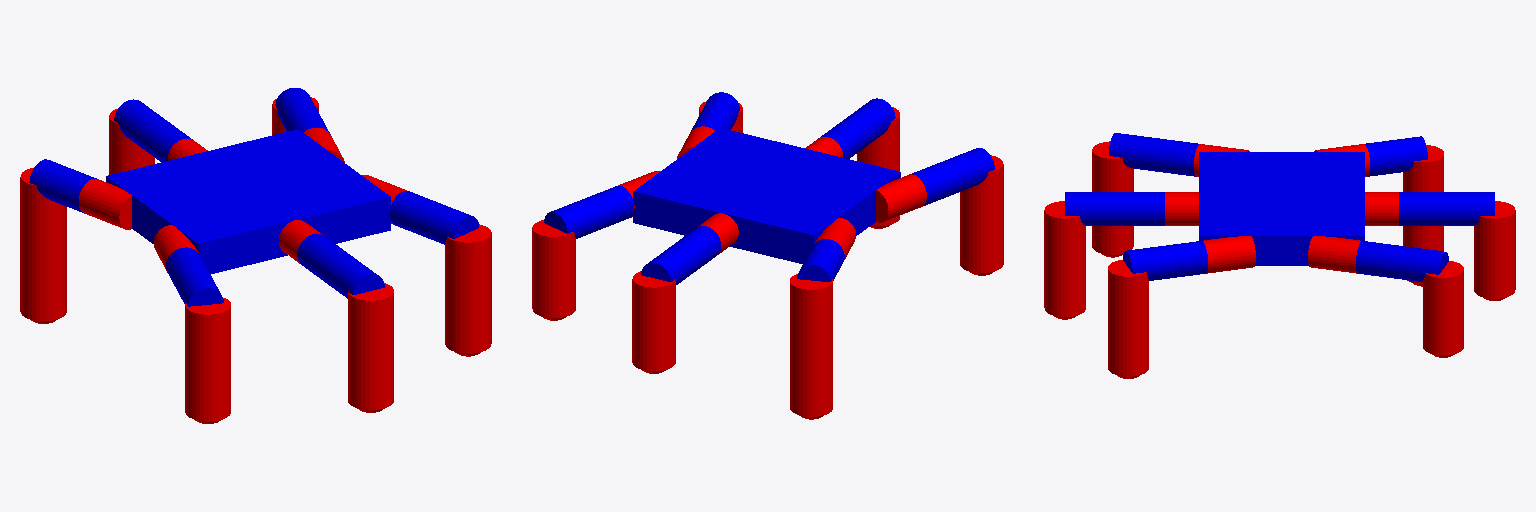
--- What the picture shows (computed from the rendered views, not written in the file) ---
The picture shows the robot from 3 angles, left to right: view 1: azimuth 30°, elevation 25°; view 2: azimuth 150°, elevation 25°; view 3: azimuth 270°, elevation 25°; orthographic projection.
Robot: pexod — 19 links, 18 joints (18 revolute); root link base_link; default pose: all joints at 0.
Visible links, largest first — view 1: base_link, leg_0_3, leg_3_3, leg_4_3, leg_5_3, leg_4_2, leg_3_2, leg_1_2, leg_5_2, leg_0_1, leg_0_2, leg_2_2 (+3 smaller); view 2: base_link, leg_0_3, leg_5_3, leg_1_3, leg_2_3, leg_2_2, leg_1_2, leg_5_2, leg_4_2, leg_5_1, leg_4_3, leg_0_2 (+3 smaller); view 3: base_link, leg_4_3, leg_3_3, leg_1_3, leg_2_3, leg_4_2, leg_1_2, leg_2_2, leg_5_3, leg_5_2, leg_3_2, leg_0_3 (+5 smaller).
Boxes of the visible links, x1,y1,x2,y2 form: base_link: (106,129,390,273); leg_0_3: (20,168,66,323); leg_3_3: (445,224,491,356); leg_4_3: (348,283,393,412); leg_5_3: (185,298,230,423); leg_4_2: (297,233,384,298); leg_3_2: (390,191,478,244); leg_1_2: (114,99,192,161); leg_5_2: (166,247,223,306); leg_0_1: (79,179,131,229); leg_0_2: (29,159,96,212); leg_2_2: (275,88,330,134); base_link: (633,128,900,263); leg_0_3: (790,274,832,419); leg_5_3: (960,155,1003,275); leg_1_3: (632,271,675,373); leg_2_3: (532,220,575,320); leg_2_2: (544,186,633,238); leg_1_2: (641,226,720,284); leg_5_2: (909,148,994,205); leg_4_2: (818,98,895,158); leg_5_1: (876,174,926,222); leg_4_3: (857,107,899,228); leg_0_2: (797,239,844,281); base_link: (1199,152,1364,265); leg_4_3: (1044,201,1085,319); leg_3_3: (1108,260,1148,378); leg_1_3: (1474,201,1515,300); leg_2_3: (1423,261,1463,357); leg_4_2: (1065,192,1164,225); leg_1_2: (1399,192,1494,225); leg_2_2: (1356,241,1448,281); leg_5_3: (1092,141,1133,257); leg_5_2: (1109,133,1198,176); leg_3_2: (1123,241,1207,280); leg_0_3: (1403,145,1443,286).
Bounding box of the posed robot: 0.3878 × 0.5656 × 0.1937 m (x, y, z).
Geometry: primitives only (box / cylinder / sphere), no mesh files.

The robot description file, URDF, robot "pexod":
<?xml version="1.0" ?>
<!-- =================================================================================== -->
<!-- |    This document was autogenerated by xacro from pexod.xacro                    | -->
<!-- |    EDITING THIS FILE BY HAND IS NOT RECOMMENDED                                 | -->
<!-- =================================================================================== -->
<robot name="pexod" xmlns:xacro="http://www.ros.org/wiki/xacro">
  <!-- <xacro:include filename="$(find pexod_description)/urdf/pexod_control.xacro" /> -->
  <!-- MATERIALS -->
  <material name="Blue">
    <color rgba="0 0 1 1"/>
  </material>
  <material name="Red">
    <color rgba="1 0 0 1"/>
  </material>
  <material name="Green">
    <color rgba="0 1 0 1"/>
  </material>
  <material name="Yellow">
    <color rgba="1 1 0 1"/>
  </material>
  <material name="LightGrey">
    <color rgba="0.6 0.6 0.6 1.0"/>
  </material>
  <!-- END OF MATERIALS -->
  <!-- XACRO MACROS FOR VISUALS AND COLLISIONS -->
  <!-- END OF XACRO MACROS -->
  <!-- TORSO -->
  <link name="base_link">
    <visual>
      <origin rpy="0 0 0" xyz="0 0 0"/>
      <geometry>
        <box size="0.24 0.2 0.04"/>
      </geometry>
      <material name="Blue"/>
    </visual>
    <collision>
      <origin rpy="0 0 0" xyz="0 0 0"/>
      <geometry>
        <box size="0.24 0.2 0.04"/>
      </geometry>
    </collision>
    <inertial>
      <!-- CENTER OF MASS -->
      <origin rpy="0 0 0" xyz="0 0 0"/>
      <mass value="1.031"/>
      <!-- box inertia: 1/12*m(y^2+z^2), ... -->
      <inertia ixx="0.00357413333333" ixy="0" ixz="0" iyy="0.00508626666667" iyz="0" izz="0.00838546666667"/>
    </inertial>
  </link>
  <!-- XACRO MACRO FOR LEGS LINKS/JOINTS -->
  <!-- END OF LEG LINKS/JOINTS -->
  <joint name="body_leg_2" type="revolute">
    <parent link="base_link"/>
    <child link="leg_2_1"/>
    <limit effort="30.0" lower="-1.57079632679" upper="1.57079632679" velocity="7.0"/>
    <origin rpy="0 0 -0.3" xyz="0.11 0.04 0"/>
    <!-- <xacro:if value="${index == 5 or index == 4 or index == 3}">
                <axis xyz="0 0 1"/>
            </xacro:if>
            <xacro:if value="${index == 2 or index == 1 or index == 0}"> -->
    <axis xyz="0 0 1"/>
    <!-- </xacro:if> -->
    <dynamics damping="0.0"/>
  </joint>
  <link name="leg_2_1">
    <visual>
      <origin rpy="1.57079632679 0 0" xyz="0.01 0.03 0"/>
      <geometry>
        <cylinder length="0.06" radius="0.02"/>
      </geometry>
      <material name="Red"/>
    </visual>
    <collision>
      <origin rpy="1.57079632679 0 0" xyz="0.01 0.03 0"/>
      <geometry>
        <box size="0.02 0.02 0.06"/>
      </geometry>
    </collision>
    <inertial>
      <!-- CENTER OF MASS -->
      <origin rpy="1.57079632679 0 0" xyz="0.01 0.03 0"/>
      <mass value="0.02"/>
      <!-- box inertia: 1/12*m(y^2+z^2), ... -->
      <inertia ixx="6.66666666667e-06" ixy="0" ixz="0" iyy="6.66666666667e-06" iyz="0" izz="1.33333333333e-06"/>
    </inertial>
  </link>
  <joint name="leg_2_1_2" type="revolute">
    <parent link="leg_2_1"/>
    <child link="leg_2_2"/>
    <limit effort="30.0" lower="-0.78539816339" upper="0.78539816339" velocity="7.0"/>
    <origin rpy="0 0 0" xyz="0 0.06 0"/>
    <axis xyz="1 0 0"/>
    <dynamics damping="0.0"/>
  </joint>
  <link name="leg_2_2">
    <visual>
      <origin rpy="1.57079632679 0 0" xyz="0.01 0.05240941406 0"/>
      <geometry>
        <cylinder length="0.10481882812" radius="0.02"/>
      </geometry>
      <material name="Blue"/>
    </visual>
    <collision>
      <origin rpy="1.57079632679 0 0" xyz="0.01 0.05240941406 0"/>
      <geometry>
        <box size="0.02 0.02 0.10481882812"/>
      </geometry>
    </collision>
    <inertial>
      <!-- CENTER OF MASS -->
      <origin rpy="1.57079632679 0 0" xyz="0.01 0.05240941406 0"/>
      <mass value="0.184"/>
      <!-- box inertia: 1/12*m(y^2+z^2), ... -->
      <inertia ixx="0.00017460046317" ixy="0" ixz="0" iyy="0.00017460046317" iyz="0" izz="1.22666666667e-05"/>
    </inertial>
  </link>
  <joint name="leg_2_2_3" type="revolute">
    <parent link="leg_2_2"/>
    <child link="leg_2_3"/>
    <limit effort="30.0" lower="-0.78539816339" upper="0.78539816339" velocity="7.0"/>
    <origin rpy="-1.57079632679 0 0" xyz="0 0.10481882812 0"/>
    <axis xyz="-1 0 0"/>
    <dynamics damping="0.0"/>
  </joint>
  <link name="leg_2_3">
    <visual>
      <origin rpy="1.57079632679 0 0" xyz="0.0125 0.0514556264495 0"/>
      <geometry>
        <cylinder length="0.102911252899" radius="0.025"/>
      </geometry>
      <material name="Red"/>
    </visual>
    <visual>
      <origin rpy="1.57079632679 0 0" xyz="0.0125 0.090411252899 0"/>
      <geometry>
        <sphere radius="0.025"/>
      </geometry>
      <material name="Red"/>
    </visual>
    <collision>
      <origin rpy="1.57079632679 0 0" xyz="0.0125 0.0514556264495 0"/>
      <geometry>
        <box size="0.025 0.025 0.102911252899"/>
      </geometry>
    </collision>
    <collision>
      <origin rpy="1.57079632679 0 0" xyz="0.0125 0.090411252899 0"/>
      <geometry>
        <sphere radius="0.025"/>
      </geometry>
      <material name="Red"/>
    </collision>
    <inertial>
      <!-- CENTER OF MASS -->
      <origin rpy="1.57079632679 0 0" xyz="0.0125 0.0514556264495 0"/>
      <mass value="0.04"/>
      <!-- box inertia: 1/12*m(y^2+z^2), ... -->
      <inertia ixx="3.73857532441e-05" ixy="0" ixz="0" iyy="3.73857532441e-05" iyz="0" izz="4.16666666667e-06"/>
    </inertial>
  </link>
  <joint name="body_leg_3" type="revolute">
    <parent link="base_link"/>
    <child link="leg_3_1"/>
    <limit effort="30.0" lower="-1.57079632679" upper="1.57079632679" velocity="7.0"/>
    <origin rpy="0 0 0.3" xyz="0.11 -0.04 0"/>
    <!-- <xacro:if value="${index == 5 or index == 4 or index == 3}">
                <axis xyz="0 0 1"/>
            </xacro:if>
            <xacro:if value="${index == 2 or index == 1 or index == 0}"> -->
    <axis xyz="0 0 1"/>
    <!-- </xacro:if> -->
    <dynamics damping="0.0"/>
  </joint>
  <link name="leg_3_1">
    <visual>
      <origin rpy="1.57079632679 0 0" xyz="0.01 -0.03 0"/>
      <geometry>
        <cylinder length="0.06" radius="0.02"/>
      </geometry>
      <material name="Red"/>
    </visual>
    <collision>
      <origin rpy="1.57079632679 0 0" xyz="0.01 -0.03 0"/>
      <geometry>
        <box size="0.02 0.02 0.06"/>
      </geometry>
    </collision>
    <inertial>
      <!-- CENTER OF MASS -->
      <origin rpy="1.57079632679 0 0" xyz="0.01 -0.03 0"/>
      <mass value="0.02"/>
      <!-- box inertia: 1/12*m(y^2+z^2), ... -->
      <inertia ixx="6.66666666667e-06" ixy="0" ixz="0" iyy="6.66666666667e-06" iyz="0" izz="1.33333333333e-06"/>
    </inertial>
  </link>
  <joint name="leg_3_1_2" type="revolute">
    <parent link="leg_3_1"/>
    <child link="leg_3_2"/>
    <limit effort="30.0" lower="-0.78539816339" upper="0.78539816339" velocity="7.0"/>
    <origin rpy="0 0 0" xyz="0 -0.06 0"/>
    <axis xyz="-1 0 0"/>
    <dynamics damping="0.0"/>
  </joint>
  <link name="leg_3_2">
    <visual>
      <origin rpy="1.57079632679 0 0" xyz="0.01 -0.0474497018917 0"/>
      <geometry>
        <cylinder length="0.0948994037833" radius="0.02"/>
      </geometry>
      <material name="Blue"/>
    </visual>
    <collision>
      <origin rpy="1.57079632679 0 0" xyz="0.01 -0.0474497018917 0"/>
      <geometry>
        <box size="0.02 0.02 0.0948994037833"/>
      </geometry>
    </collision>
    <inertial>
      <!-- CENTER OF MASS -->
      <origin rpy="1.57079632679 0 0" xyz="0.01 -0.0474497018917 0"/>
      <mass value="0.184"/>
      <!-- box inertia: 1/12*m(y^2+z^2), ... -->
      <inertia ixx="0.000144223751523" ixy="0" ixz="0" iyy="0.000144223751523" iyz="0" izz="1.22666666667e-05"/>
    </inertial>
  </link>
  <joint name="leg_3_2_3" type="revolute">
    <parent link="leg_3_2"/>
    <child link="leg_3_3"/>
    <limit effort="30.0" lower="-0.78539816339" upper="0.78539816339" velocity="7.0"/>
    <origin rpy="1.57079632679 0 0" xyz="0 -0.0948994037833 0"/>
    <axis xyz="1 0 0"/>
    <dynamics damping="0.0"/>
  </joint>
  <link name="leg_3_3">
    <visual>
      <origin rpy="1.57079632679 0 0" xyz="0.0125 -0.0661733256075 0"/>
      <geometry>
        <cylinder length="0.132346651215" radius="0.025"/>
      </geometry>
      <material name="Red"/>
    </visual>
    <visual>
      <origin rpy="1.57079632679 0 0" xyz="0.0125 -0.119846651215 0"/>
      <geometry>
        <sphere radius="0.025"/>
      </geometry>
      <material name="Red"/>
    </visual>
    <collision>
      <origin rpy="1.57079632679 0 0" xyz="0.0125 -0.0661733256075 0"/>
      <geometry>
        <box size="0.025 0.025 0.132346651215"/>
      </geometry>
    </collision>
    <collision>
      <origin rpy="1.57079632679 0 0" xyz="0.0125 -0.119846651215 0"/>
      <geometry>
        <sphere radius="0.025"/>
      </geometry>
      <material name="Red"/>
    </collision>
    <inertial>
      <!-- CENTER OF MASS -->
      <origin rpy="1.57079632679 0 0" xyz="0.0125 -0.0661733256075 0"/>
      <mass value="0.04"/>
      <!-- box inertia: 1/12*m(y^2+z^2), ... -->
      <inertia ixx="6.04687869594e-05" ixy="0" ixz="0" iyy="6.04687869594e-05" iyz="0" izz="4.16666666667e-06"/>
    </inertial>
  </link>
  <joint name="body_leg_0" type="revolute">
    <parent link="base_link"/>
    <child link="leg_0_1"/>
    <limit effort="30.0" lower="-1.57079632679" upper="1.57079632679" velocity="7.0"/>
    <origin rpy="0 0 0.3" xyz="-0.13 0.04 0"/>
    <!-- <xacro:if value="${index == 5 or index == 4 or index == 3}">
                <axis xyz="0 0 1"/>
            </xacro:if>
            <xacro:if value="${index == 2 or index == 1 or index == 0}"> -->
    <axis xyz="0 0 1"/>
    <!-- </xacro:if> -->
    <dynamics damping="0.0"/>
  </joint>
  <link name="leg_0_1">
    <visual>
      <origin rpy="1.57079632679 0 0" xyz="0.01 0.03 0"/>
      <geometry>
        <cylinder length="0.06" radius="0.02"/>
      </geometry>
      <material name="Red"/>
    </visual>
    <collision>
      <origin rpy="1.57079632679 0 0" xyz="0.01 0.03 0"/>
      <geometry>
        <box size="0.02 0.02 0.06"/>
      </geometry>
    </collision>
    <inertial>
      <!-- CENTER OF MASS -->
      <origin rpy="1.57079632679 0 0" xyz="0.01 0.03 0"/>
      <mass value="0.02"/>
      <!-- box inertia: 1/12*m(y^2+z^2), ... -->
      <inertia ixx="6.66666666667e-06" ixy="0" ixz="0" iyy="6.66666666667e-06" iyz="0" izz="1.33333333333e-06"/>
    </inertial>
  </link>
  <joint name="leg_0_1_2" type="revolute">
    <parent link="leg_0_1"/>
    <child link="leg_0_2"/>
    <limit effort="30.0" lower="-0.78539816339" upper="0.78539816339" velocity="7.0"/>
    <origin rpy="0 0 0" xyz="0 0.06 0"/>
    <axis xyz="1 0 0"/>
    <dynamics damping="0.0"/>
  </joint>
  <link name="leg_0_2">
    <visual>
      <origin rpy="1.57079632679 0 0" xyz="0.01 0.0361516964363 0"/>
      <geometry>
        <cylinder length="0.0723033928726" radius="0.02"/>
      </geometry>
      <material name="Blue"/>
    </visual>
    <collision>
      <origin rpy="1.57079632679 0 0" xyz="0.01 0.0361516964363 0"/>
      <geometry>
        <box size="0.02 0.02 0.0723033928726"/>
      </geometry>
    </collision>
    <inertial>
      <!-- CENTER OF MASS -->
      <origin rpy="1.57079632679 0 0" xyz="0.01 0.0361516964363 0"/>
      <mass value="0.184"/>
      <!-- box inertia: 1/12*m(y^2+z^2), ... -->
      <inertia ixx="8.6292636187e-05" ixy="0" ixz="0" iyy="8.6292636187e-05" iyz="0" izz="1.22666666667e-05"/>
    </inertial>
  </link>
  <joint name="leg_0_2_3" type="revolute">
    <parent link="leg_0_2"/>
    <child link="leg_0_3"/>
    <limit effort="30.0" lower="-0.78539816339" upper="0.78539816339" velocity="7.0"/>
    <origin rpy="-1.57079632679 0 0" xyz="0 0.0723033928726 0"/>
    <axis xyz="-1 0 0"/>
    <dynamics damping="0.0"/>
  </joint>
  <link name="leg_0_3">
    <visual>
      <origin rpy="1.57079632679 0 0" xyz="0.0125 0.0806012912115 0"/>
      <geometry>
        <cylinder length="0.161202582423" radius="0.025"/>
      </geometry>
      <material name="Red"/>
    </visual>
    <visual>
      <origin rpy="1.57079632679 0 0" xyz="0.0125 0.148702582423 0"/>
      <geometry>
        <sphere radius="0.025"/>
      </geometry>
      <material name="Red"/>
    </visual>
    <collision>
      <origin rpy="1.57079632679 0 0" xyz="0.0125 0.0806012912115 0"/>
      <geometry>
        <box size="0.025 0.025 0.161202582423"/>
      </geometry>
    </collision>
    <collision>
      <origin rpy="1.57079632679 0 0" xyz="0.0125 0.148702582423 0"/>
      <geometry>
        <sphere radius="0.025"/>
      </geometry>
      <material name="Red"/>
    </collision>
    <inertial>
      <!-- CENTER OF MASS -->
      <origin rpy="1.57079632679 0 0" xyz="0.0125 0.0806012912115 0"/>
      <mass value="0.04"/>
      <!-- box inertia: 1/12*m(y^2+z^2), ... -->
      <inertia ixx="8.87042419328e-05" ixy="0" ixz="0" iyy="8.87042419328e-05" iyz="0" izz="4.16666666667e-06"/>
    </inertial>
  </link>
  <joint name="body_leg_5" type="revolute">
    <parent link="base_link"/>
    <child link="leg_5_1"/>
    <limit effort="30.0" lower="-1.57079632679" upper="1.57079632679" velocity="7.0"/>
    <origin rpy="0 0 -0.3" xyz="-0.13 -0.04 0"/>
    <!-- <xacro:if value="${index == 5 or index == 4 or index == 3}">
                <axis xyz="0 0 1"/>
            </xacro:if>
            <xacro:if value="${index == 2 or index == 1 or index == 0}"> -->
    <axis xyz="0 0 1"/>
    <!-- </xacro:if> -->
    <dynamics damping="0.0"/>
  </joint>
  <link name="leg_5_1">
    <visual>
      <origin rpy="1.57079632679 0 0" xyz="0.01 -0.03 0"/>
      <geometry>
        <cylinder length="0.06" radius="0.02"/>
      </geometry>
      <material name="Red"/>
    </visual>
    <collision>
      <origin rpy="1.57079632679 0 0" xyz="0.01 -0.03 0"/>
      <geometry>
        <box size="0.02 0.02 0.06"/>
      </geometry>
    </collision>
    <inertial>
      <!-- CENTER OF MASS -->
      <origin rpy="1.57079632679 0 0" xyz="0.01 -0.03 0"/>
      <mass value="0.02"/>
      <!-- box inertia: 1/12*m(y^2+z^2), ... -->
      <inertia ixx="6.66666666667e-06" ixy="0" ixz="0" iyy="6.66666666667e-06" iyz="0" izz="1.33333333333e-06"/>
    </inertial>
  </link>
  <joint name="leg_5_1_2" type="revolute">
    <parent link="leg_5_1"/>
    <child link="leg_5_2"/>
    <limit effort="30.0" lower="-0.78539816339" upper="0.78539816339" velocity="7.0"/>
    <origin rpy="0 0 0" xyz="0 -0.06 0"/>
    <axis xyz="-1 0 0"/>
    <dynamics damping="0.0"/>
  </joint>
  <link name="leg_5_2">
    <visual>
      <origin rpy="1.57079632679 0 0" xyz="0.01 -0.053404875585 0"/>
      <geometry>
        <cylinder length="0.10680975117" radius="0.02"/>
      </geometry>
      <material name="Blue"/>
    </visual>
    <collision>
      <origin rpy="1.57079632679 0 0" xyz="0.01 -0.053404875585 0"/>
      <geometry>
        <box size="0.02 0.02 0.10680975117"/>
      </geometry>
    </collision>
    <inertial>
      <!-- CENTER OF MASS -->
      <origin rpy="1.57079632679 0 0" xyz="0.01 -0.053404875585 0"/>
      <mass value="0.184"/>
      <!-- box inertia: 1/12*m(y^2+z^2), ... -->
      <inertia ixx="0.000181060951823" ixy="0" ixz="0" iyy="0.000181060951823" iyz="0" izz="1.22666666667e-05"/>
    </inertial>
  </link>
  <joint name="leg_5_2_3" type="revolute">
    <parent link="leg_5_2"/>
    <child link="leg_5_3"/>
    <limit effort="30.0" lower="-0.78539816339" upper="0.78539816339" velocity="7.0"/>
    <origin rpy="1.57079632679 0 0" xyz="0 -0.10680975117 0"/>
    <axis xyz="1 0 0"/>
    <dynamics damping="0.0"/>
  </joint>
  <link name="leg_5_3">
    <visual>
      <origin rpy="1.57079632679 0 0" xyz="0.0125 -0.0636915508945 0"/>
      <geometry>
        <cylinder length="0.127383101789" radius="0.025"/>
      </geometry>
      <material name="Red"/>
    </visual>
    <visual>
      <origin rpy="1.57079632679 0 0" xyz="0.0125 -0.114883101789 0"/>
      <geometry>
        <sphere radius="0.025"/>
      </geometry>
      <material name="Red"/>
    </visual>
    <collision>
      <origin rpy="1.57079632679 0 0" xyz="0.0125 -0.0636915508945 0"/>
      <geometry>
        <box size="0.025 0.025 0.127383101789"/>
      </geometry>
    </collision>
    <collision>
      <origin rpy="1.57079632679 0 0" xyz="0.0125 -0.114883101789 0"/>
      <geometry>
        <sphere radius="0.025"/>
      </geometry>
      <material name="Red"/>
    </collision>
    <inertial>
      <!-- CENTER OF MASS -->
      <origin rpy="1.57079632679 0 0" xyz="0.0125 -0.0636915508945 0"/>
      <mass value="0.04"/>
      <!-- box inertia: 1/12*m(y^2+z^2), ... -->
      <inertia ixx="5.61715154046e-05" ixy="0" ixz="0" iyy="5.61715154046e-05" iyz="0" izz="4.16666666667e-06"/>
    </inertial>
  </link>
  <joint name="body_leg_1" type="revolute">
    <parent link="base_link"/>
    <child link="leg_1_1"/>
    <limit effort="30.0" lower="-1.57079632679" upper="1.57079632679" velocity="7.0"/>
    <origin rpy="0 0 0" xyz="-0.01 0.08 0"/>
    <!-- <xacro:if value="${index == 5 or index == 4 or index == 3}">
                <axis xyz="0 0 1"/>
            </xacro:if>
            <xacro:if value="${index == 2 or index == 1 or index == 0}"> -->
    <axis xyz="0 0 1"/>
    <!-- </xacro:if> -->
    <dynamics damping="0.0"/>
  </joint>
  <link name="leg_1_1">
    <visual>
      <origin rpy="1.57079632679 0 0" xyz="0.01 0.03 0"/>
      <geometry>
        <cylinder length="0.06" radius="0.02"/>
      </geometry>
      <material name="Red"/>
    </visual>
    <collision>
      <origin rpy="1.57079632679 0 0" xyz="0.01 0.03 0"/>
      <geometry>
        <box size="0.02 0.02 0.06"/>
      </geometry>
    </collision>
    <inertial>
      <!-- CENTER OF MASS -->
      <origin rpy="1.57079632679 0 0" xyz="0.01 0.03 0"/>
      <mass value="0.02"/>
      <!-- box inertia: 1/12*m(y^2+z^2), ... -->
      <inertia ixx="6.66666666667e-06" ixy="0" ixz="0" iyy="6.66666666667e-06" iyz="0" izz="1.33333333333e-06"/>
    </inertial>
  </link>
  <joint name="leg_1_1_2" type="revolute">
    <parent link="leg_1_1"/>
    <child link="leg_1_2"/>
    <limit effort="30.0" lower="-0.78539816339" upper="0.78539816339" velocity="7.0"/>
    <origin rpy="0 0 0" xyz="0 0.06 0"/>
    <axis xyz="1 0 0"/>
    <dynamics damping="0.0"/>
  </joint>
  <link name="leg_1_2">
    <visual>
      <origin rpy="1.57079632679 0 0" xyz="0.01 0.05767021063 0"/>
      <geometry>
        <cylinder length="0.11534042126" radius="0.02"/>
      </geometry>
      <material name="Blue"/>
    </visual>
    <collision>
      <origin rpy="1.57079632679 0 0" xyz="0.01 0.05767021063 0"/>
      <geometry>
        <box size="0.02 0.02 0.11534042126"/>
      </geometry>
    </collision>
    <inertial>
      <!-- CENTER OF MASS -->
      <origin rpy="1.57079632679 0 0" xyz="0.01 0.05767021063 0"/>
      <mass value="0.184"/>
      <!-- box inertia: 1/12*m(y^2+z^2), ... -->
      <inertia ixx="0.000210118995905" ixy="0" ixz="0" iyy="0.000210118995905" iyz="0" izz="1.22666666667e-05"/>
    </inertial>
  </link>
  <joint name="leg_1_2_3" type="revolute">
    <parent link="leg_1_2"/>
    <child link="leg_1_3"/>
    <limit effort="30.0" lower="-0.78539816339" upper="0.78539816339" velocity="7.0"/>
    <origin rpy="-1.57079632679 0 0" xyz="0 0.11534042126 0"/>
    <axis xyz="-1 0 0"/>
    <dynamics damping="0.0"/>
  </joint>
  <link name="leg_1_3">
    <visual>
      <origin rpy="1.57079632679 0 0" xyz="0.0125 0.053146732375 0"/>
      <geometry>
        <cylinder length="0.10629346475" radius="0.025"/>
      </geometry>
      <material name="Red"/>
    </visual>
    <visual>
      <origin rpy="1.57079632679 0 0" xyz="0.0125 0.09379346475 0"/>
      <geometry>
        <sphere radius="0.025"/>
      </geometry>
      <material name="Red"/>
    </visual>
    <collision>
      <origin rpy="1.57079632679 0 0" xyz="0.0125 0.053146732375 0"/>
      <geometry>
        <box size="0.025 0.025 0.10629346475"/>
      </geometry>
    </collision>
    <collision>
      <origin rpy="1.57079632679 0 0" xyz="0.0125 0.09379346475 0"/>
      <geometry>
        <sphere radius="0.025"/>
      </geometry>
      <material name="Red"/>
    </collision>
    <inertial>
      <!-- CENTER OF MASS -->
      <origin rpy="1.57079632679 0 0" xyz="0.0125 0.053146732375 0"/>
      <mass value="0.04"/>
      <!-- box inertia: 1/12*m(y^2+z^2), ... -->
      <inertia ixx="3.97443354952e-05" ixy="0" ixz="0" iyy="3.97443354952e-05" iyz="0" izz="4.16666666667e-06"/>
    </inertial>
  </link>
  <joint name="body_leg_4" type="revolute">
    <parent link="base_link"/>
    <child link="leg_4_1"/>
    <limit effort="30.0" lower="-1.57079632679" upper="1.57079632679" velocity="7.0"/>
    <origin rpy="0 0 0" xyz="-0.01 -0.08 0"/>
    <!-- <xacro:if value="${index == 5 or index == 4 or index == 3}">
                <axis xyz="0 0 1"/>
            </xacro:if>
            <xacro:if value="${index == 2 or index == 1 or index == 0}"> -->
    <axis xyz="0 0 1"/>
    <!-- </xacro:if> -->
    <dynamics damping="0.0"/>
  </joint>
  <link name="leg_4_1">
    <visual>
      <origin rpy="1.57079632679 0 0" xyz="0.01 -0.03 0"/>
      <geometry>
        <cylinder length="0.06" radius="0.02"/>
      </geometry>
      <material name="Red"/>
    </visual>
    <collision>
      <origin rpy="1.57079632679 0 0" xyz="0.01 -0.03 0"/>
      <geometry>
        <box size="0.02 0.02 0.06"/>
      </geometry>
    </collision>
    <inertial>
      <!-- CENTER OF MASS -->
      <origin rpy="1.57079632679 0 0" xyz="0.01 -0.03 0"/>
      <mass value="0.02"/>
      <!-- box inertia: 1/12*m(y^2+z^2), ... -->
      <inertia ixx="6.66666666667e-06" ixy="0" ixz="0" iyy="6.66666666667e-06" iyz="0" izz="1.33333333333e-06"/>
    </inertial>
  </link>
  <joint name="leg_4_1_2" type="revolute">
    <parent link="leg_4_1"/>
    <child link="leg_4_2"/>
    <limit effort="30.0" lower="-0.78539816339" upper="0.78539816339" velocity="7.0"/>
    <origin rpy="0 0 0" xyz="0 -0.06 0"/>
    <axis xyz="-1 0 0"/>
    <dynamics damping="0.0"/>
  </joint>
  <link name="leg_4_2">
    <visual>
      <origin rpy="1.57079632679 0 0" xyz="0.01 -0.0601256768395 0"/>
      <geometry>
        <cylinder length="0.120251353679" radius="0.02"/>
      </geometry>
      <material name="Blue"/>
    </visual>
    <collision>
      <origin rpy="1.57079632679 0 0" xyz="0.01 -0.0601256768395 0"/>
      <geometry>
        <box size="0.02 0.02 0.120251353679"/>
      </geometry>
    </collision>
    <inertial>
      <!-- CENTER OF MASS -->
      <origin rpy="1.57079632679 0 0" xyz="0.01 -0.0601256768395 0"/>
      <mass value="0.184"/>
      <!-- box inertia: 1/12*m(y^2+z^2), ... -->
      <inertia ixx="0.000227859283612" ixy="0" ixz="0" iyy="0.000227859283612" iyz="0" izz="1.22666666667e-05"/>
    </inertial>
  </link>
  <joint name="leg_4_2_3" type="revolute">
    <parent link="leg_4_2"/>
    <child link="leg_4_3"/>
    <limit effort="30.0" lower="-0.78539816339" upper="0.78539816339" velocity="7.0"/>
    <origin rpy="1.57079632679 0 0" xyz="0 -0.120251353679 0"/>
    <axis xyz="1 0 0"/>
    <dynamics damping="0.0"/>
  </joint>
  <link name="leg_4_3">
    <visual>
      <origin rpy="1.57079632679 0 0" xyz="0.0125 -0.065267734772 0"/>
      <geometry>
        <cylinder length="0.130535469544" radius="0.025"/>
      </geometry>
      <material name="Red"/>
    </visual>
    <visual>
      <origin rpy="1.57079632679 0 0" xyz="0.0125 -0.118035469544 0"/>
      <geometry>
        <sphere radius="0.025"/>
      </geometry>
      <material name="Red"/>
    </visual>
    <collision>
      <origin rpy="1.57079632679 0 0" xyz="0.0125 -0.065267734772 0"/>
      <geometry>
        <box size="0.025 0.025 0.130535469544"/>
      </geometry>
    </collision>
    <collision>
      <origin rpy="1.57079632679 0 0" xyz="0.0125 -0.118035469544 0"/>
      <geometry>
        <sphere radius="0.025"/>
      </geometry>
      <material name="Red"/>
    </collision>
    <inertial>
      <!-- CENTER OF MASS -->
      <origin rpy="1.57079632679 0 0" xyz="0.0125 -0.065267734772 0"/>
      <mass value="0.04"/>
      <!-- box inertia: 1/12*m(y^2+z^2), ... -->
      <inertia ixx="5.88816960302e-05" ixy="0" ixz="0" iyy="5.88816960302e-05" iyz="0" izz="4.16666666667e-06"/>
    </inertial>
  </link>
  <!-- END OF LEG LINKS/JOINTS -->
</robot>
